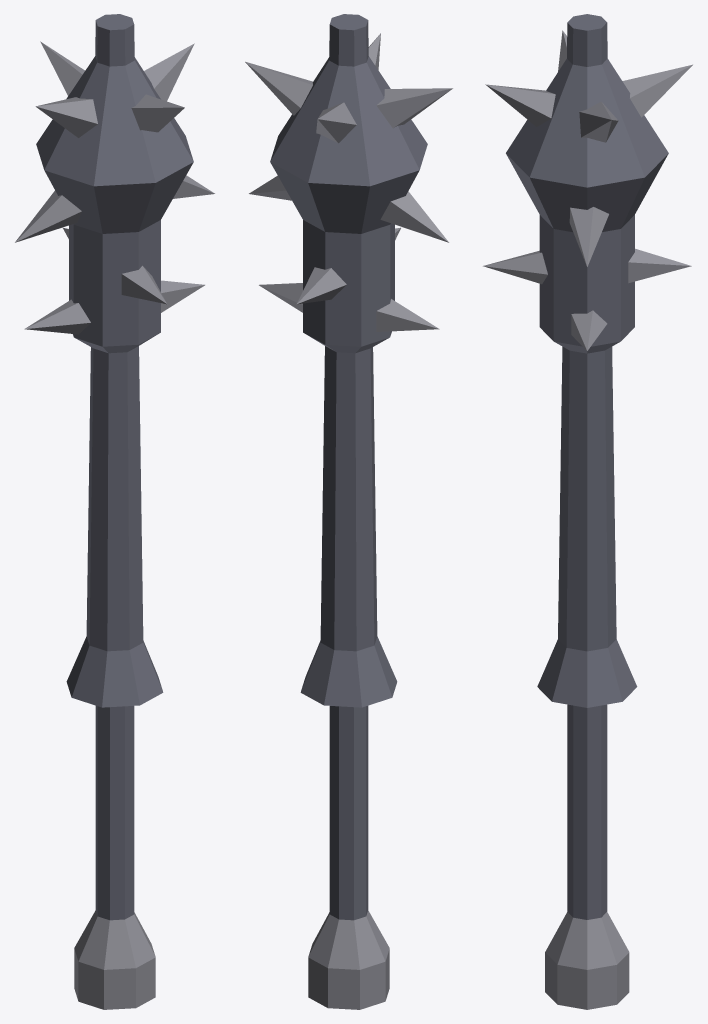
File: hammer_hammer_3.glb
3 views of the same model, side by side, from view 1: azimuth 30°, elevation 25°; view 2: azimuth 150°, elevation 25°; view 3: azimuth 270°, elevation 25° (orthographic).
Visible parts, largest first — view 1: hammer_3; view 2: hammer_3; view 3: hammer_3.
Boxes of the visible parts, <box> form: hammer_3: <box>15,14,214,1009</box>; hammer_3: <box>245,14,452,1009</box>; hammer_3: <box>483,14,692,1009</box>.
Size of the model in its own units: 16.84 by 77.64 by 15.32.
Materials: 1 (1 with a texture image).
